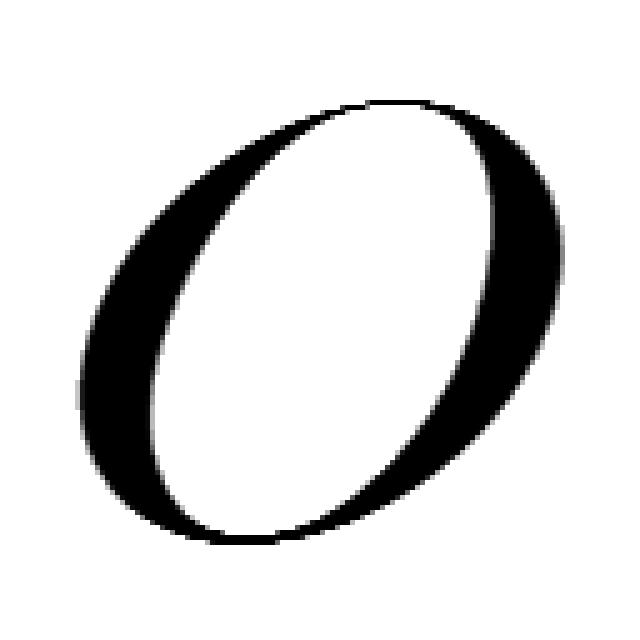O: (80, 95, 565, 550)
